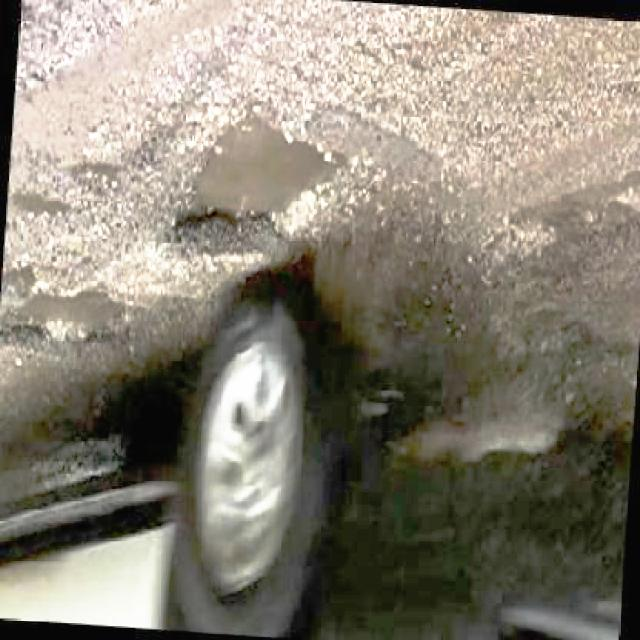pothole: (155, 98, 357, 255), (0, 281, 155, 346), (6, 149, 136, 223)
